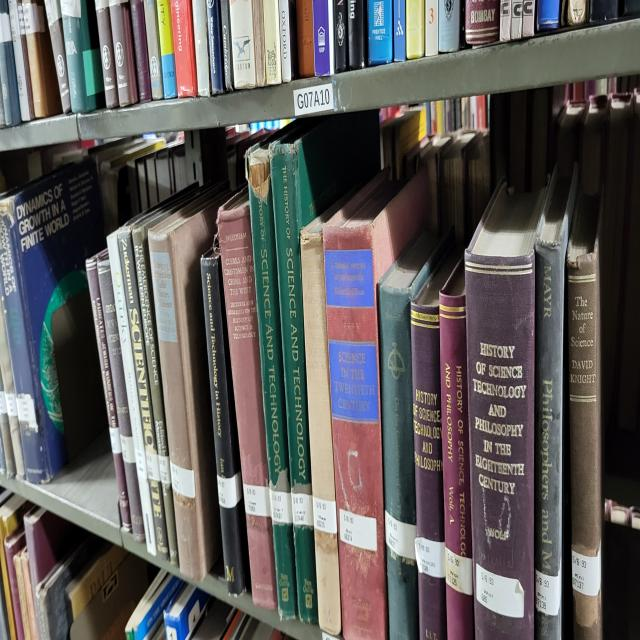Book: (269, 111, 380, 622), (322, 170, 428, 639), (465, 184, 544, 639), (148, 184, 229, 579), (218, 192, 278, 609), (379, 230, 440, 639), (246, 146, 298, 620), (300, 198, 348, 636), (535, 165, 578, 639), (132, 195, 180, 565), (119, 225, 169, 560), (201, 249, 249, 595), (566, 189, 602, 639), (108, 230, 156, 555), (98, 260, 145, 541), (440, 260, 474, 639), (411, 273, 446, 639), (86, 249, 131, 530)
Label: (476, 565, 524, 617), (339, 509, 378, 552), (385, 511, 416, 560), (571, 549, 600, 595), (445, 547, 472, 595), (415, 536, 445, 579), (535, 568, 561, 617), (312, 495, 338, 533), (218, 471, 242, 509), (244, 484, 271, 517), (170, 463, 195, 498), (291, 492, 314, 528), (270, 490, 292, 525), (146, 452, 160, 482), (120, 436, 135, 463), (135, 449, 148, 479), (159, 455, 171, 484), (110, 427, 121, 455)
